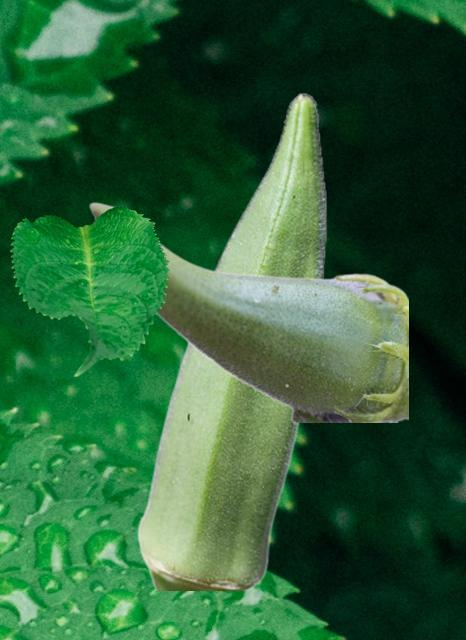okra: (137, 92, 326, 589), (88, 201, 407, 421)
